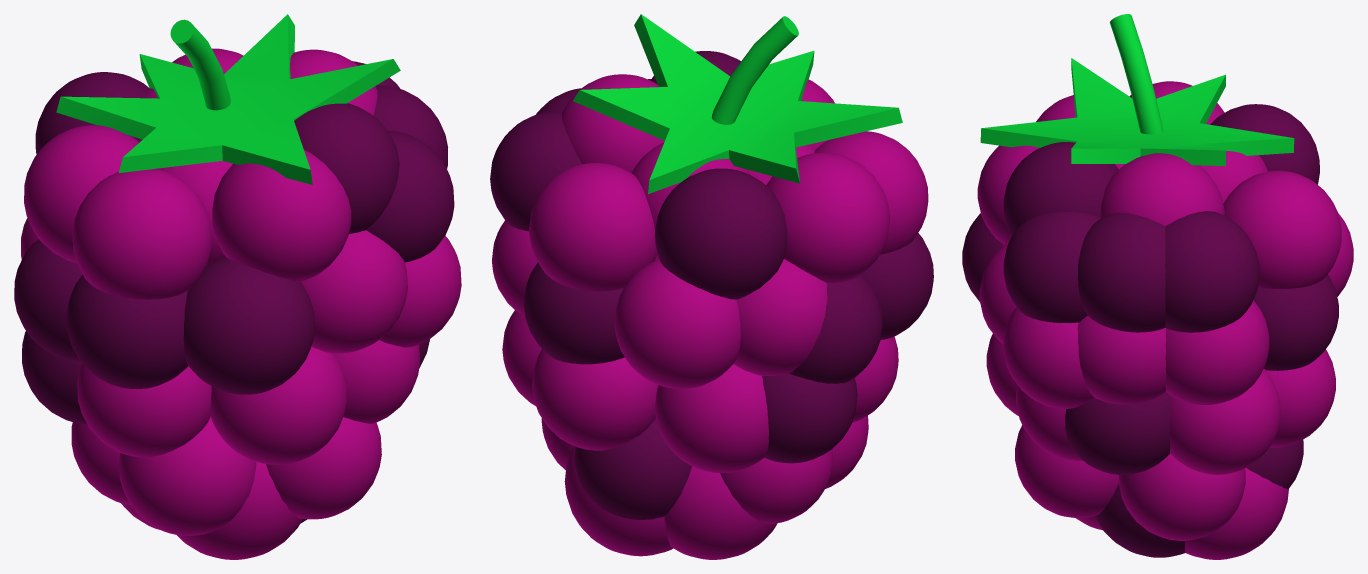
File: raspberry1.FBX
3 renders of one model, left to right at view 1: azimuth 30°, elevation 25°; view 2: azimuth 150°, elevation 25°; view 3: azimuth 270°, elevation 25°, orthographic. The views are drawn at different scales.
Visible parts, largest first — view 1: Star004, Sphere045, Sphere034, Sphere044, Sphere037, Sphere032, Sphere033, Sphere035, Sphere038, Sphere065, Sphere075, Sphere036 (+13 smaller); view 2: Star004, Sphere063, Sphere064, Sphere053, Sphere065, Sphere051, Sphere057, Sphere054, Sphere056, Sphere052, Sphere058, Sphere072 (+16 smaller); view 3: Star004, Sphere064, Sphere072, Sphere073, Sphere046, Sphere068, Sphere070, Sphere067, Sphere069, Sphere075, Sphere071, Sphere076 (+18 smaller).
Boxes of the visible parts, x1,y1,x2,y2 form: Star004: (56, 14, 400, 184); Sphere045: (72, 169, 211, 299); Sphere034: (183, 257, 314, 394); Sphere044: (212, 150, 351, 281); Sphere037: (119, 417, 256, 535); Sphere032: (210, 346, 346, 464); Sphere033: (66, 274, 187, 388); Sphere035: (301, 230, 407, 353); Sphere038: (77, 363, 211, 457); Sphere065: (24, 125, 139, 262); Sphere075: (294, 103, 399, 233); Sphere036: (266, 417, 381, 519); Star004: (573, 14, 902, 193); Sphere063: (655, 168, 787, 299); Sphere064: (529, 163, 657, 291); Sphere053: (614, 259, 740, 388); Sphere065: (766, 152, 890, 282); Sphere051: (655, 364, 768, 473); Sphere057: (532, 349, 658, 450); Sphere054: (733, 259, 827, 376); Sphere056: (574, 418, 692, 519); Sphere052: (523, 262, 624, 364); Sphere058: (762, 373, 857, 463); Sphere072: (490, 111, 581, 231); Star004: (980, 58, 1294, 165); Sphere064: (1223, 170, 1341, 289); Sphere072: (1165, 211, 1259, 332); Sphere073: (1077, 213, 1165, 332); Sphere046: (1003, 212, 1100, 323); Sphere068: (1169, 368, 1280, 474); Sphere070: (1165, 300, 1269, 404); Sphere067: (1118, 454, 1245, 540); Sphere069: (1065, 392, 1170, 474); Sphere075: (1003, 142, 1118, 236); Sphere071: (1077, 316, 1166, 404); Sphere076: (1100, 153, 1224, 226).
Size of the model in its own units: 14.93 by 20 by 14.33.
